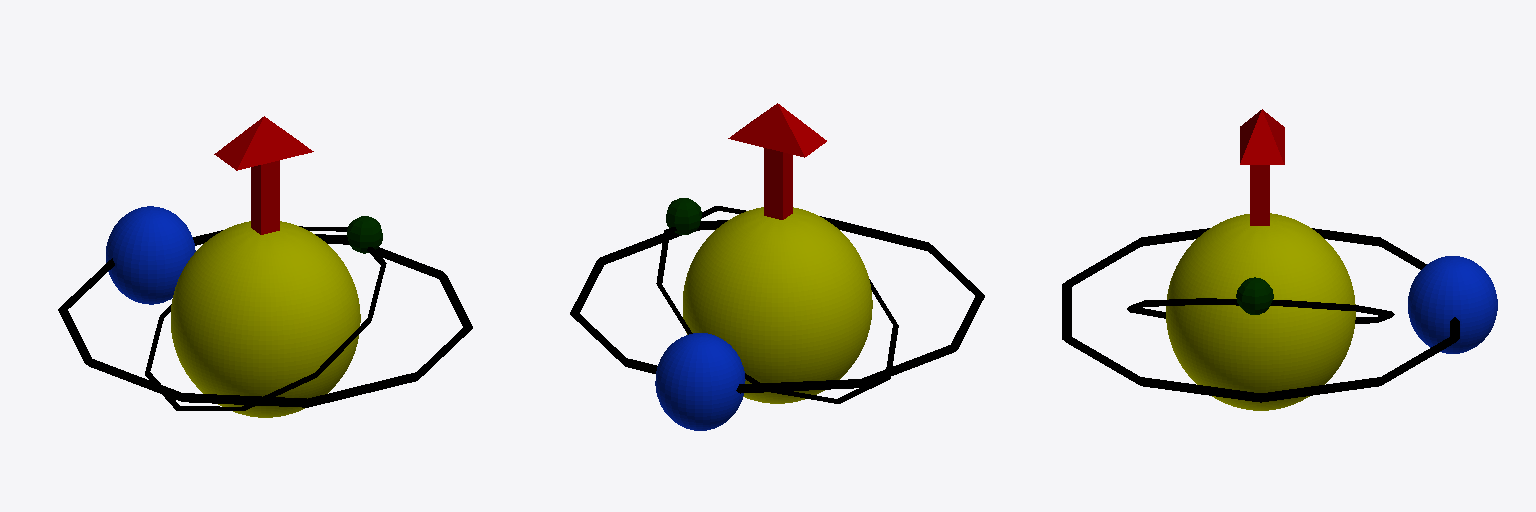
The model's file is Gravity.obj.
3 views of the same model, side by side, from view 1: azimuth 30°, elevation 25°; view 2: azimuth 150°, elevation 25°; view 3: azimuth 270°, elevation 25° (orthographic).
Visible parts, largest first — view 1: Sphere, Sphere.004, Torus, Cone.000, Torus.001, Sphere.003_Sphere.008; view 2: Sphere, Sphere.004, Torus, Cone.000, Torus.001, Sphere.003_Sphere.008; view 3: Sphere, Sphere.004, Torus, Cone.000, Torus.001, Sphere.003_Sphere.008.
Part boxes in pixels (x1,y1,x2,y2): Sphere: (171,221,360,417); Sphere.004: (106,206,195,304); Torus: (58,230,472,407); Cone.000: (214,116,313,234); Torus.001: (145,226,386,410); Sphere.003_Sphere.008: (347,216,382,253); Sphere: (683,207,872,403); Sphere.004: (655,333,745,430); Torus: (570,216,984,393); Cone.000: (728,103,826,219); Torus.001: (656,206,898,403); Sphere.003_Sphere.008: (666,198,701,234); Sphere: (1166,213,1355,410); Sphere.004: (1408,256,1497,353); Torus: (1062,228,1459,402); Cone.000: (1240,109,1284,225); Torus.001: (1127,298,1394,323); Sphere.003_Sphere.008: (1236,277,1273,314).
Size of the model in its own units: 3.79 by 2.93 by 3.95.